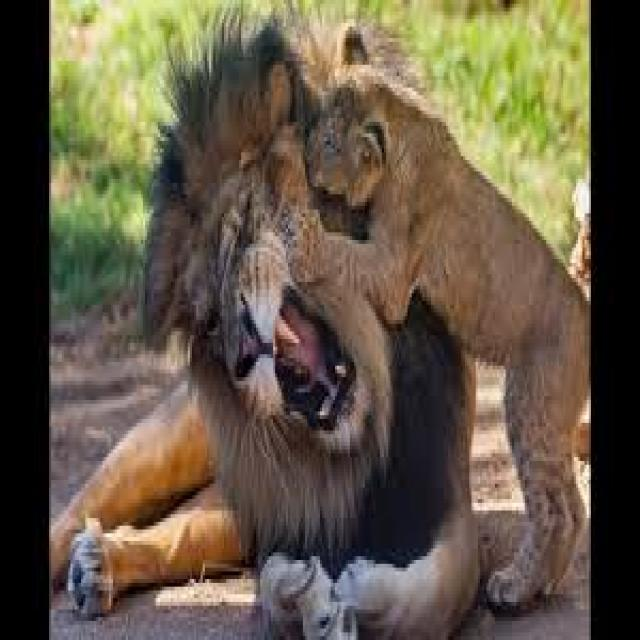Lion: (48, 23, 479, 636), (287, 27, 592, 607)
